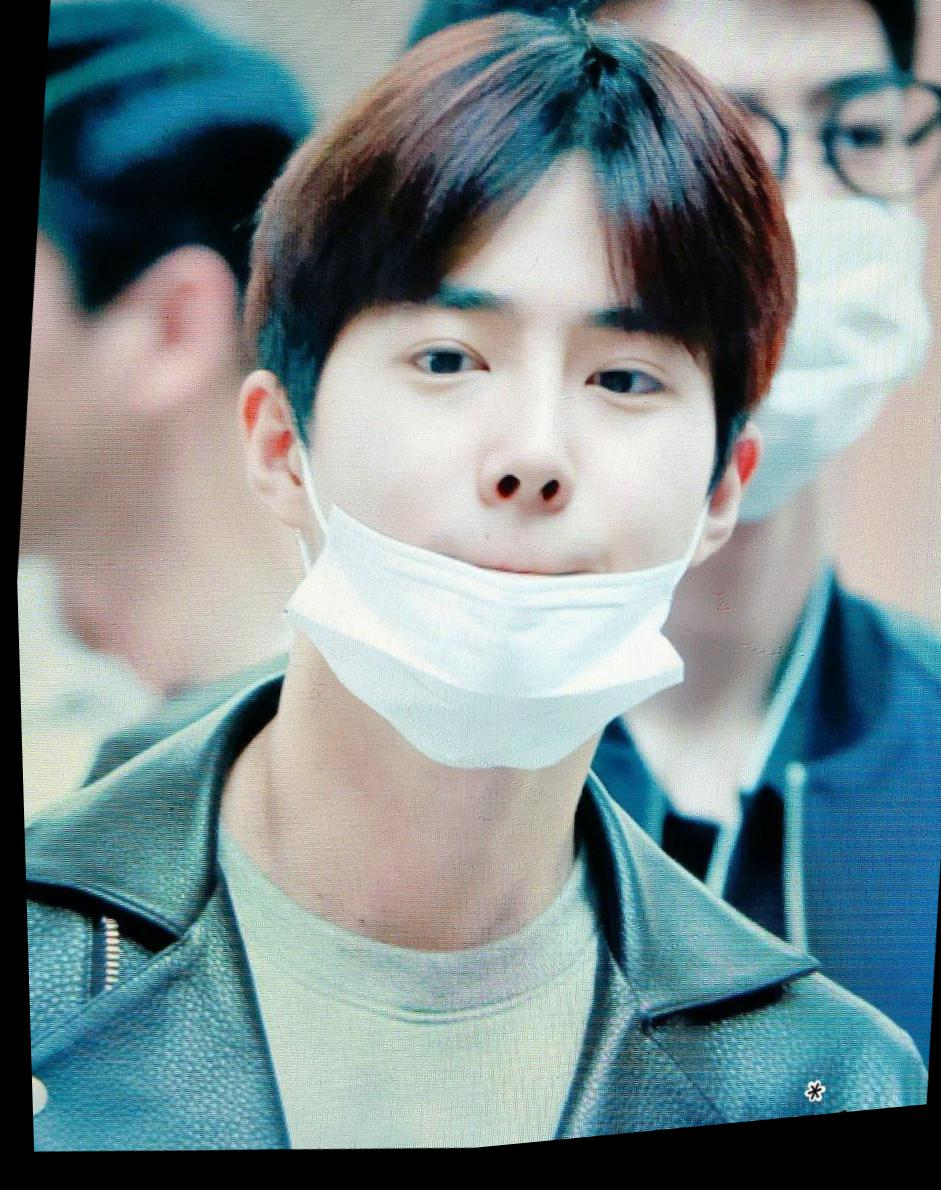OK: (514, 1, 941, 569)
WRONG: (277, 213, 740, 799)
